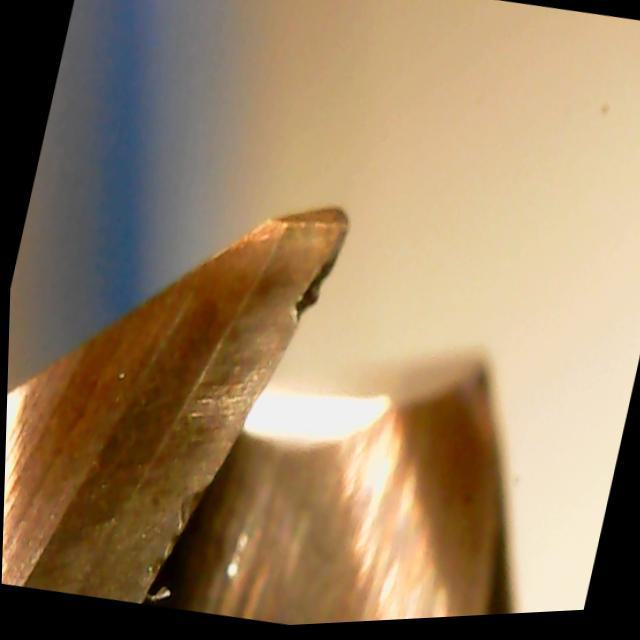Tool-wear-class-1: (152, 176, 389, 432)
